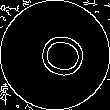O_W: (25, 28, 85, 82)
